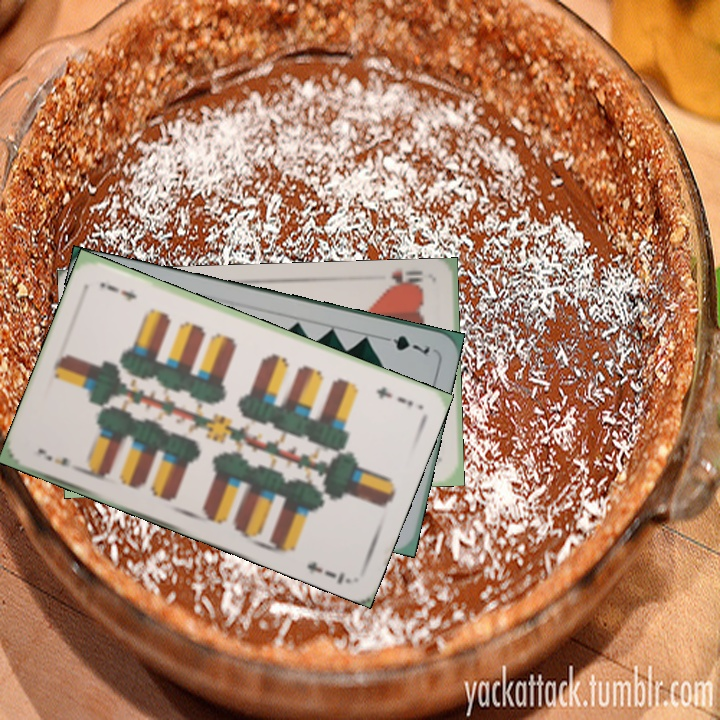E7: (34, 444, 85, 475), (372, 383, 416, 409)
G7: (376, 331, 432, 357)
HO: (381, 266, 426, 294)
